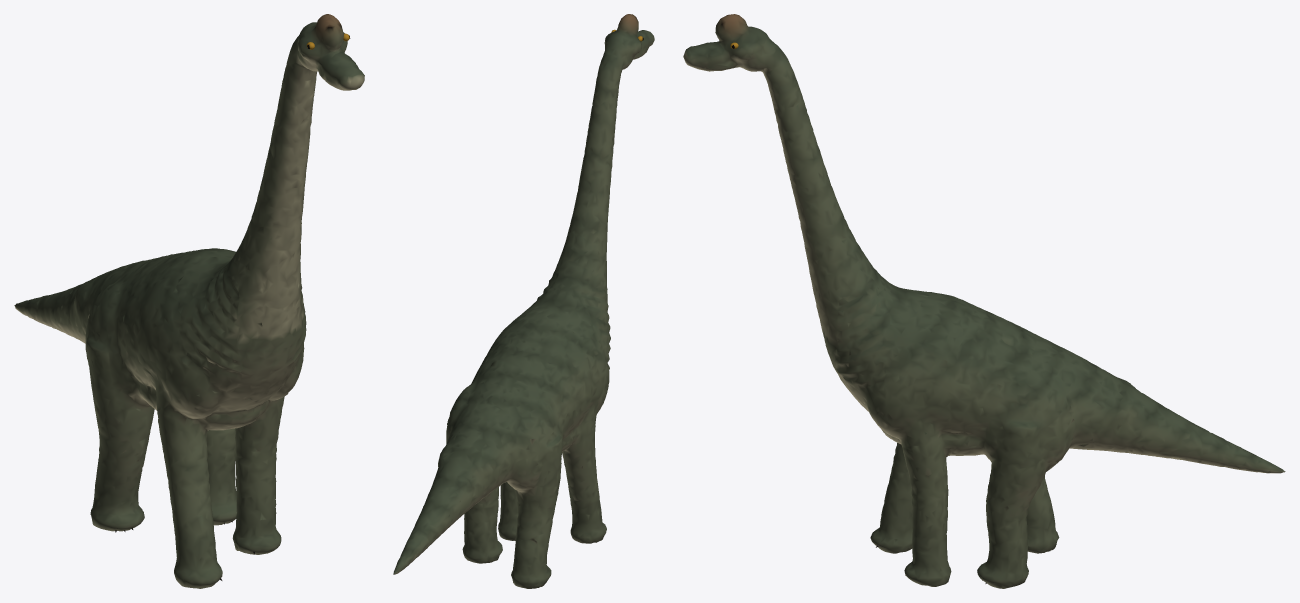
File: Brachiosaurus.fbx
3 views of the same model, side by side, from view 1: azimuth 30°, elevation 25°; view 2: azimuth 150°, elevation 25°; view 3: azimuth 270°, elevation 25° (orthographic). The views are drawn at different scales.
Visible parts, largest first — view 1: Brachiosaurus; view 2: Brachiosaurus; view 3: Brachiosaurus.
Part boxes in pixels (box(x1,y1,x2,y2)): Brachiosaurus: box(14, 14, 364, 588); Brachiosaurus: box(393, 14, 654, 588); Brachiosaurus: box(683, 14, 1285, 588).
Bounding box in the file's own units: 0.7401 × 3.06 × 3.04.
